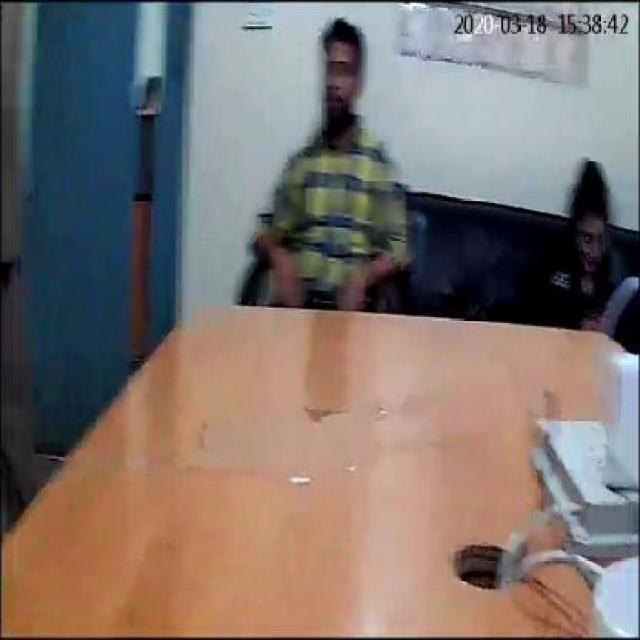spill: (164, 390, 396, 490)
